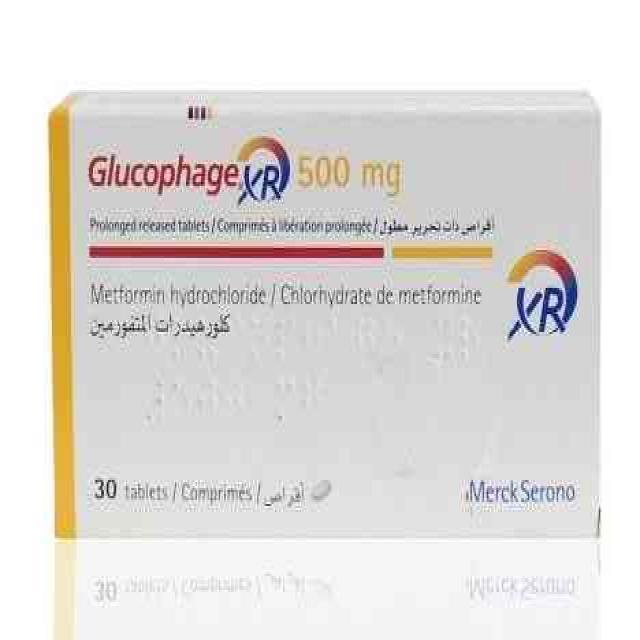drug-name: (85, 154, 281, 204)
